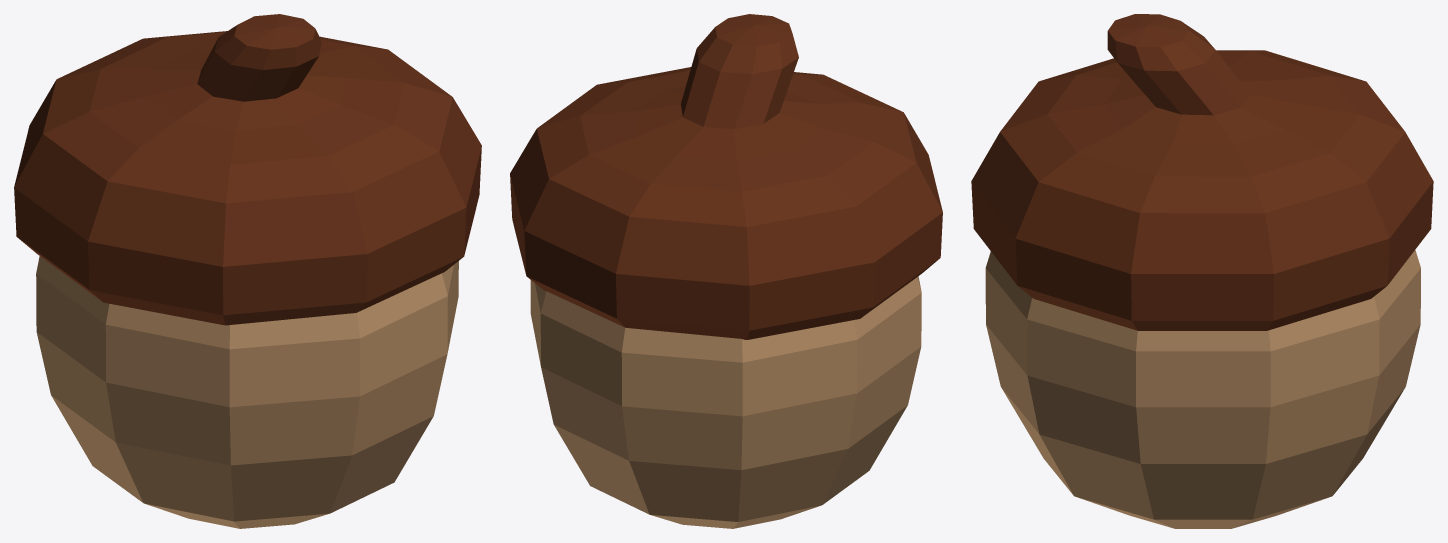
File: apcorn.fbx
3 views of the same model, side by side, from view 1: azimuth 30°, elevation 25°; view 2: azimuth 150°, elevation 25°; view 3: azimuth 270°, elevation 25° (orthographic). The views are drawn at different scales.
Visible parts, largest first — view 1: apcorn; view 2: apcorn; view 3: apcorn.
Boxes of the visible parts, left/top/right/bottom form: apcorn: left=14, top=14, right=481, bottom=528; apcorn: left=510, top=14, right=942, bottom=528; apcorn: left=971, top=14, right=1433, bottom=528.
Bounding box in the file's own units: 1.93 × 2.29 × 2.03.
